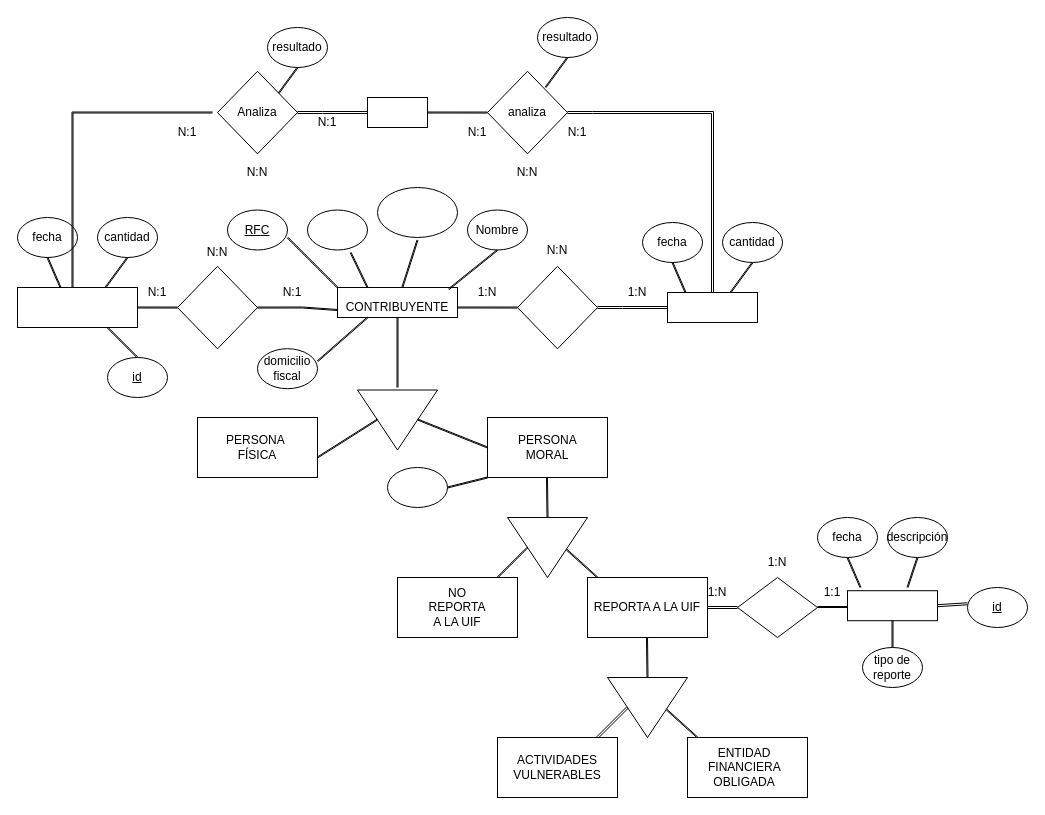
Image size: 1045x815. Some labels were removed from this diagram. Here are the shapes that lost their labels. From the top down, the centre of each, then its label:
At pixel 397 112: "IA".
At pixel 337 229: "e.firma".
At pixel 417 212: "actividad económica".
At pixel 77 307: "TRANSACCIONES".
At pixel 217 307: "realiza".
At pixel 557 307: "declara".
At pixel 712 307: "IMPUESTOS".
At pixel 417 487: "Razón social".
At pixel 777 607: "Crea".
At pixel 892 605: "REPORTE A LA UIF".
